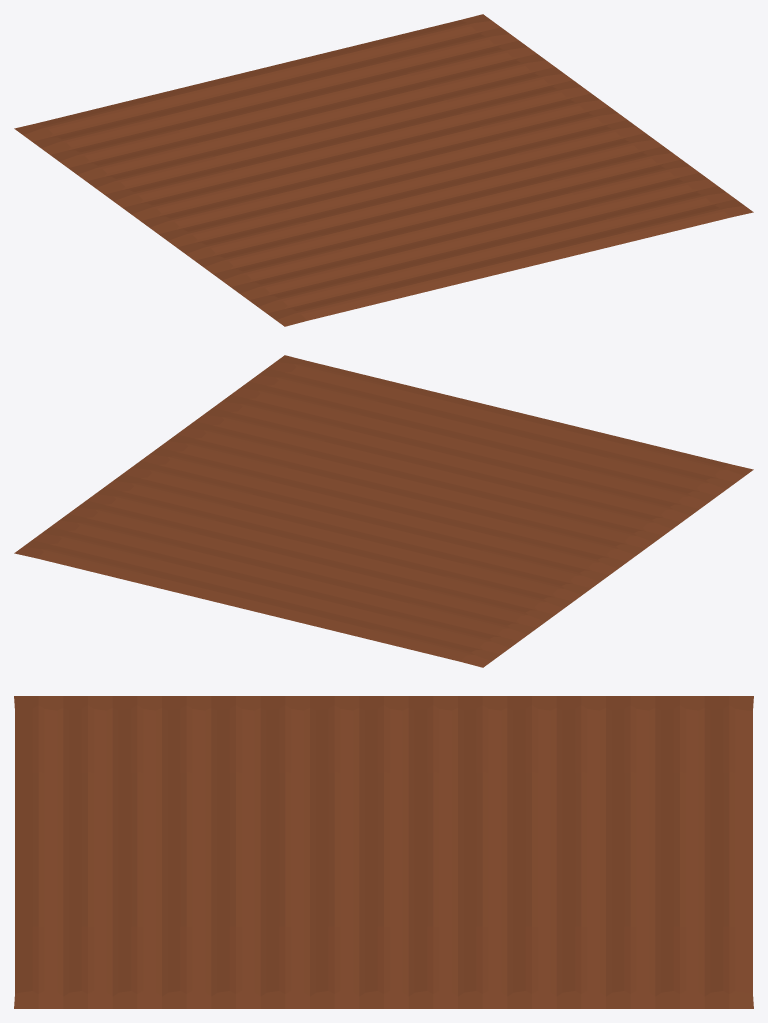
File: tilted-soil.obj
3 renders of one model, top to bottom at view 1: azimuth 30°, elevation 25°; view 2: azimuth 150°, elevation 25°; view 3: azimuth 270°, elevation 25°, orthographic. The views are drawn at different scales.
Parts seen in each view (by area): view 1: Grid; view 2: Grid; view 3: Grid.
Part boxes in pixels (x1=…): Grid: x1=14, y1=14, x2=753, y2=326; Grid: x1=14, y1=355, x2=753, y2=667; Grid: x1=14, y1=696, x2=753, y2=1008.
Bounding box in the file's own units: 2 × 0.00938 × 2.
